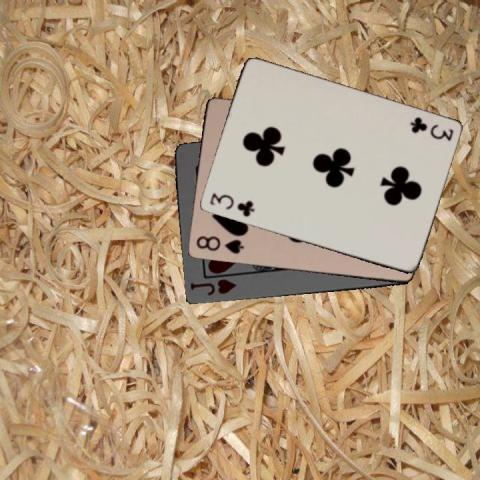3c: (206, 190, 256, 219), (406, 114, 454, 142)
8s: (193, 233, 245, 256)
Jh: (187, 276, 237, 297)
